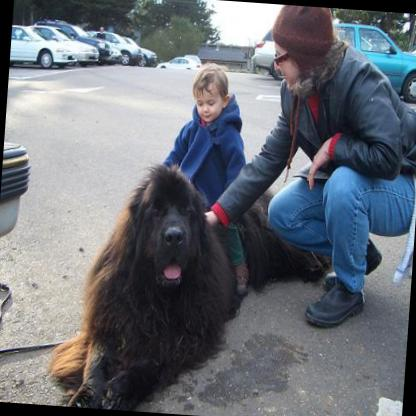Newfoundland: (48, 154, 334, 416)
